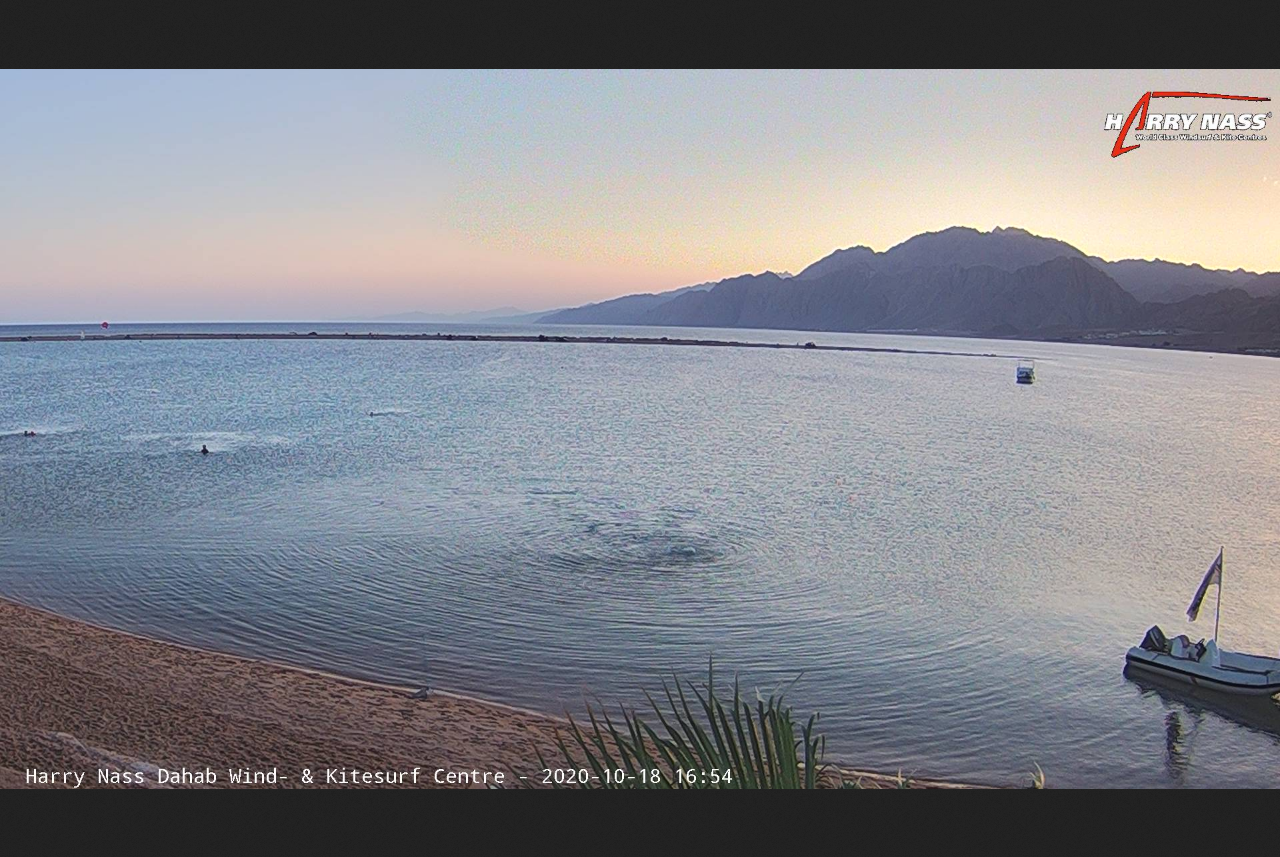no: (1183, 544, 1226, 624)
